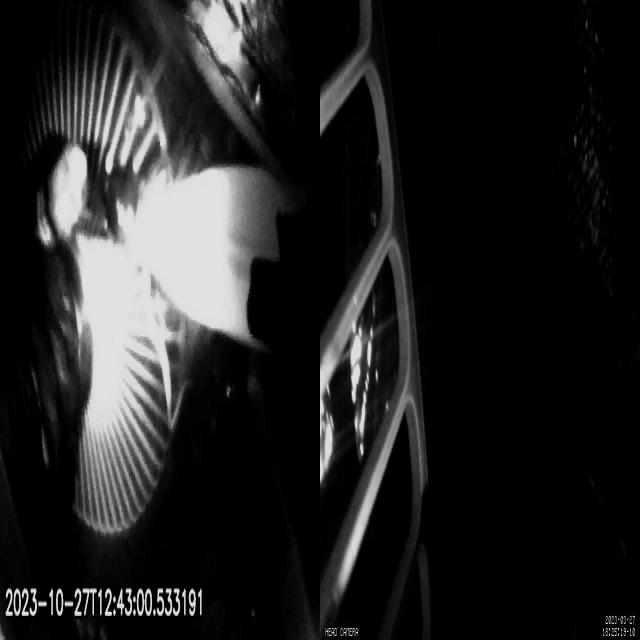head: (36, 144, 88, 244)
